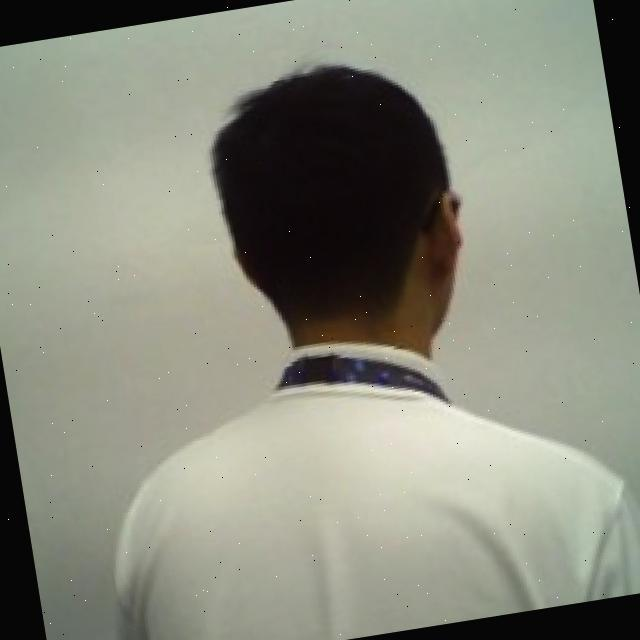no_gloves: (180, 25, 507, 381)
